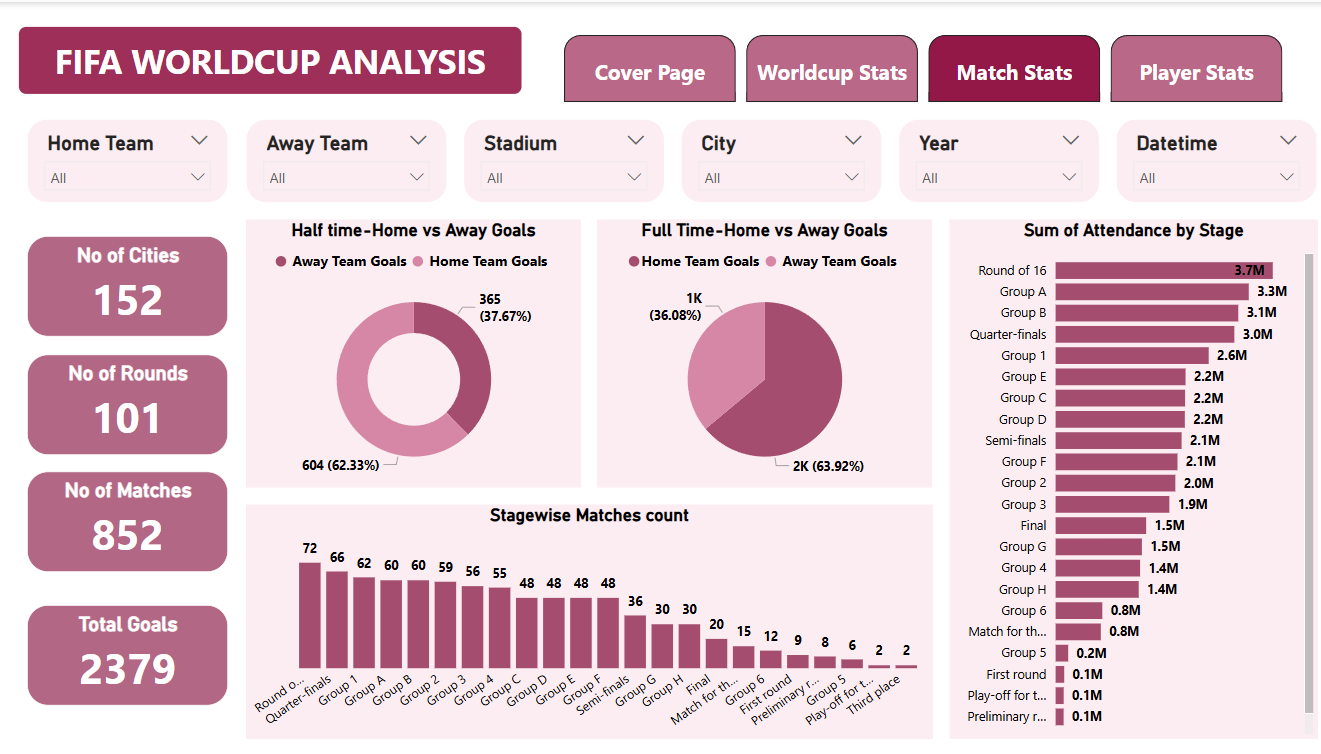

The dashboard page shown, as its layout file describes it:
{"tool":"powerbi","page":{"name":"Match Stats","canvas":[1280,720],"ordinal":2},"visuals":[{"type":"slicer","fields":{"Values":["WorldCupMatches.Home Team Name"]},"box":[32,112,192,80],"z":0},{"type":"card","title":"No of Matches","fields":{"Values":["CountNonNull(WorldCupMatches.MatchID)"]},"box":[32,448,192,96],"z":1000},{"type":"card","title":"Total Goals","fields":{"Values":["Sum(WorldCups.GoalsScored)"]},"box":[32,576,192,96],"z":2000},{"type":"card","title":"No of Rounds","fields":{"Values":["Count(WorldCupPlayers.RoundID)"]},"box":[32,336,192,96],"z":3000},{"type":"pageNavigator","box":[544,32,688,64],"z":4000},{"type":"textbox","box":[16,16,496,80],"z":5000},{"type":"pieChart","title":"Full Time-Home vs Away Goals","fields":{"Y":["Sum(WorldCupMatches.Home Team Goals)","Sum(WorldCupMatches.Away Team Goals)"]},"box":[576,208,320,256],"z":6000},{"type":"slicer","fields":{"Values":["WorldCupMatches.Away Team Name"]},"box":[240,112,192,80],"z":7000},{"type":"slicer","fields":{"Values":["WorldCupMatches.Stadium"]},"box":[448,112,192,80],"z":8000},{"type":"slicer","fields":{"Values":["WorldCupMatches.City"]},"box":[656,112,192,80],"z":9000},{"type":"slicer","fields":{"Values":["WorldCupMatches.Datetime"]},"box":[1072,112,192,80],"z":10000},{"type":"slicer","fields":{"Values":["WorldCupMatches.Year"]},"box":[864,112,192,80],"z":11000},{"type":"columnChart","title":"Stagewise Matches count","fields":{"Category":["WorldCupMatches.Stage"],"Y":["CountNonNull(WorldCupMatches.MatchID)"]},"box":[240,480,656,224],"z":12000},{"type":"clusteredBarChart","fields":{"Category":["WorldCupMatches.Stage"],"Y":["Sum(WorldCupMatches.Attendance)"]},"box":[912,208,352,496],"z":13000},{"type":"donutChart","title":"Half time-Home vs Away Goals","fields":{"Y":["Sum(WorldCupMatches.Half-time Away Goals)","Sum(WorldCupMatches.Half-time Home Goals)"]},"box":[240,208,320,256],"z":14000},{"type":"card","title":"No of Cities","fields":{"Values":["Count(WorldCupMatches.City)"]},"box":[32,224,192,96],"z":15000}]}

Visuals, with their boxes in screenshot pixels (x1, y1, x2, y2), scaled from the page's 1280x720 canvas onto the 1321x754 screenshot:
slicer - WorldCupMatches.Home Team Name: 33 117 231 201
"No of Matches" card: 33 469 231 570
"Total Goals" card: 33 603 231 704
"No of Rounds" card: 33 352 231 452
pageNavigator: 561 34 1271 101
textbox: 17 17 528 101
"Full Time-Home vs Away Goals" pieChart: 594 218 925 486
slicer - WorldCupMatches.Away Team Name: 248 117 446 201
slicer - WorldCupMatches.Stadium: 462 117 660 201
slicer - WorldCupMatches.City: 677 117 875 201
slicer - WorldCupMatches.Datetime: 1106 117 1304 201
slicer - WorldCupMatches.Year: 892 117 1090 201
"Stagewise Matches count" columnChart: 248 503 925 737
clusteredBarChart - WorldCupMatches.Stage x Sum(WorldCupMatches.Attendance): 941 218 1304 737
"Half time-Home vs Away Goals" donutChart: 248 218 578 486
"No of Cities" card: 33 235 231 335
